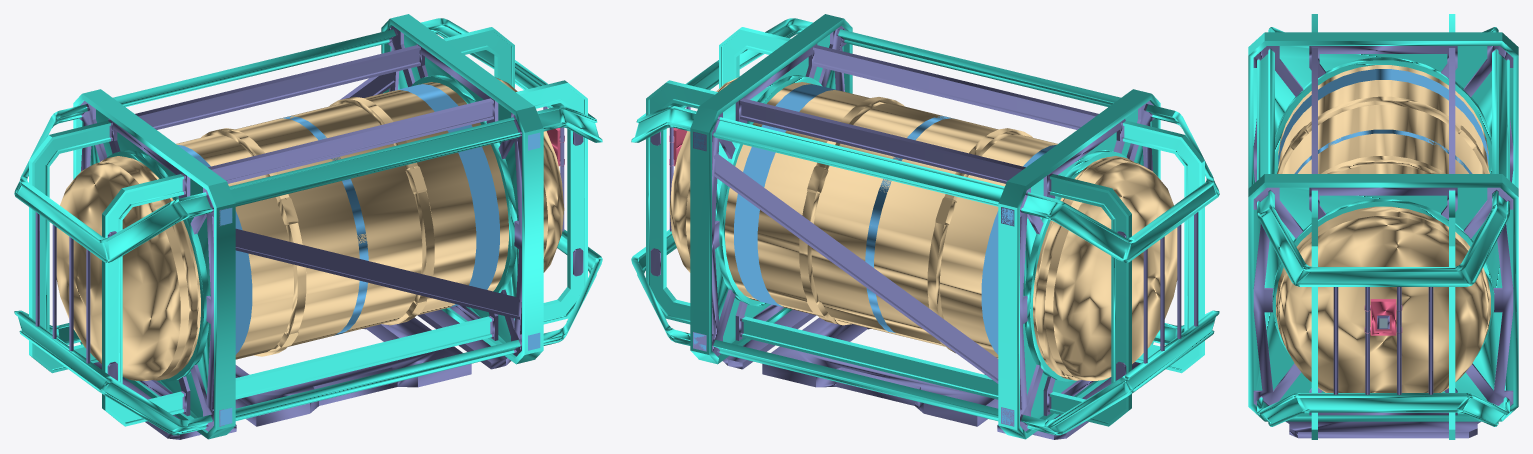
The model's file is crate_liquid_1_a.glb.
3 views of the same model, side by side, from view 1: azimuth 30°, elevation 25°; view 2: azimuth 150°, elevation 25°; view 3: azimuth 270°, elevation 25° (orthographic). The views are drawn at different scales.
Bounding box in the file's own units: 5 × 2.5 × 2.5.
